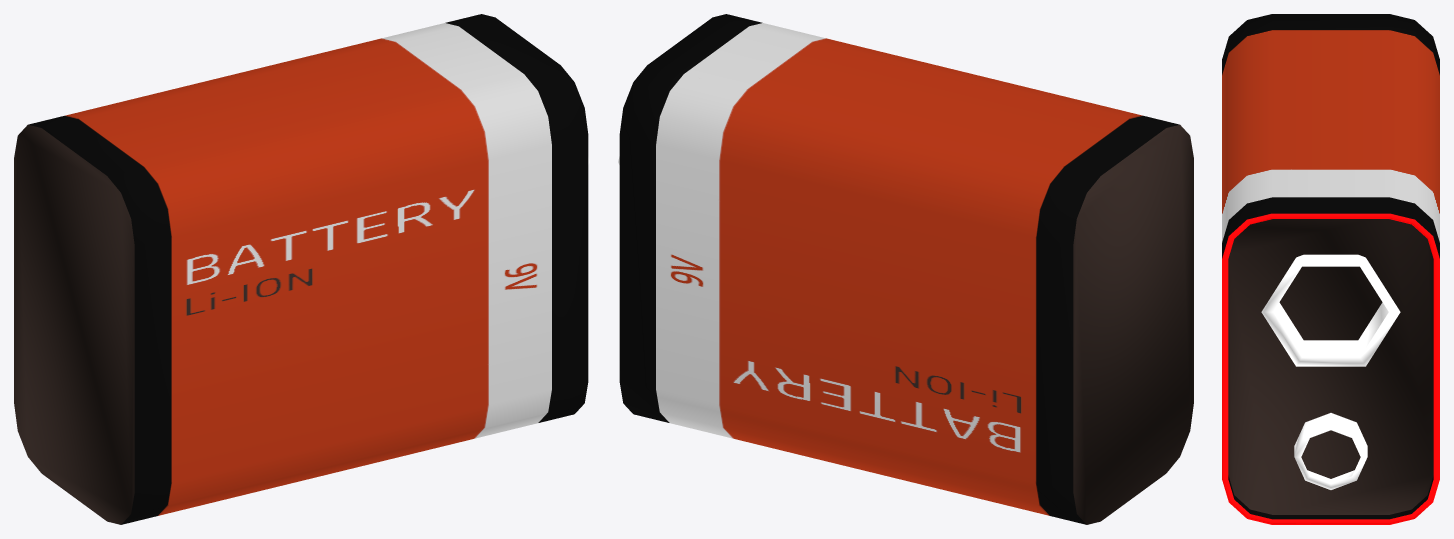
The model's file is introbattery9v.glb.
3 renders of one model, left to right at view 1: azimuth 30°, elevation 25°; view 2: azimuth 150°, elevation 25°; view 3: azimuth 270°, elevation 25°, orthographic. The views are drawn at different scales.
Parts seen in each view (by area): view 1: Plane; view 2: Plane; view 3: Plane.
Boxes of the visible parts, x1=… form: Plane: x1=14, y1=14, x2=589, y2=524; Plane: x1=618, y1=14, x2=1193, y2=524; Plane: x1=1222, y1=14, x2=1439, y2=524.
Size of the model in its own units: 0.8676 by 0.6008 by 0.3805.
4 materials, 1 textured.
